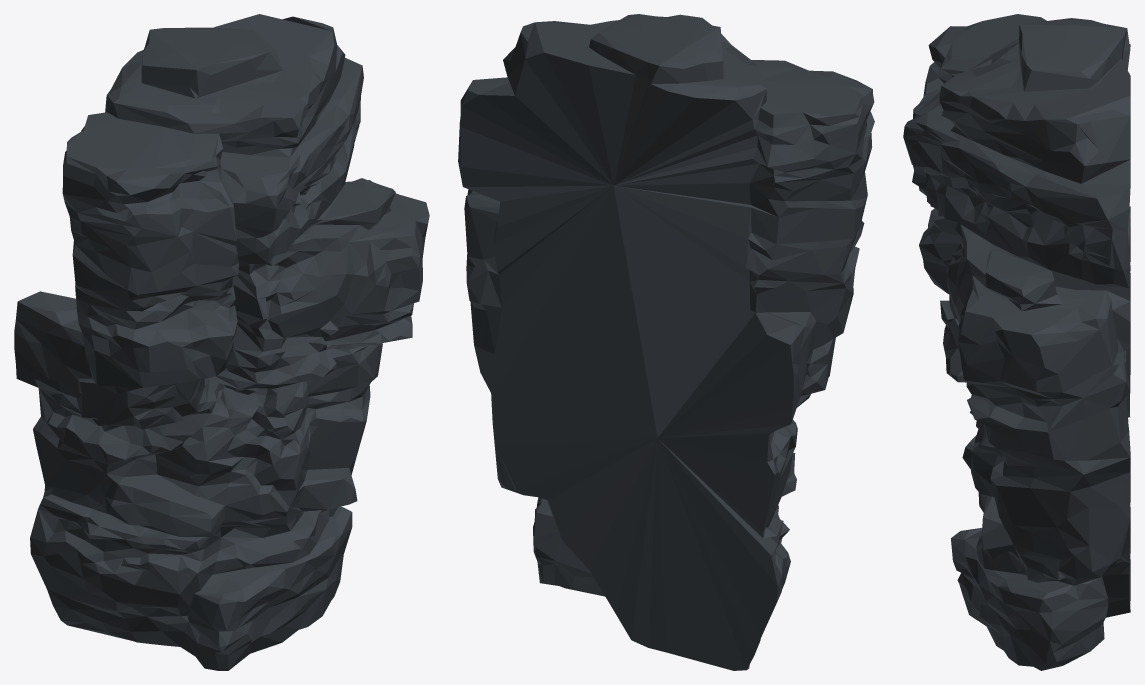
Rendered from MDungeon_CavernRock_Large_01.FBX.
3 views of the same model, side by side, from view 1: azimuth 30°, elevation 25°; view 2: azimuth 150°, elevation 25°; view 3: azimuth 270°, elevation 25° (orthographic).
Visible parts, largest first — view 1: MDungeon_CavernRock_Large_01_LOD0; view 2: MDungeon_CavernRock_Large_01_LOD0; view 3: MDungeon_CavernRock_Large_01_LOD0.
Part boxes in pixels (left/top/right/bottom): MDungeon_CavernRock_Large_01_LOD0: left=14, top=14, right=429, bottom=670; MDungeon_CavernRock_Large_01_LOD0: left=458, top=14, right=874, bottom=670; MDungeon_CavernRock_Large_01_LOD0: left=903, top=14, right=1130, bottom=670.
Size of what is drawn, in the model's own units: 27.78 by 41.89 by 14.65.
